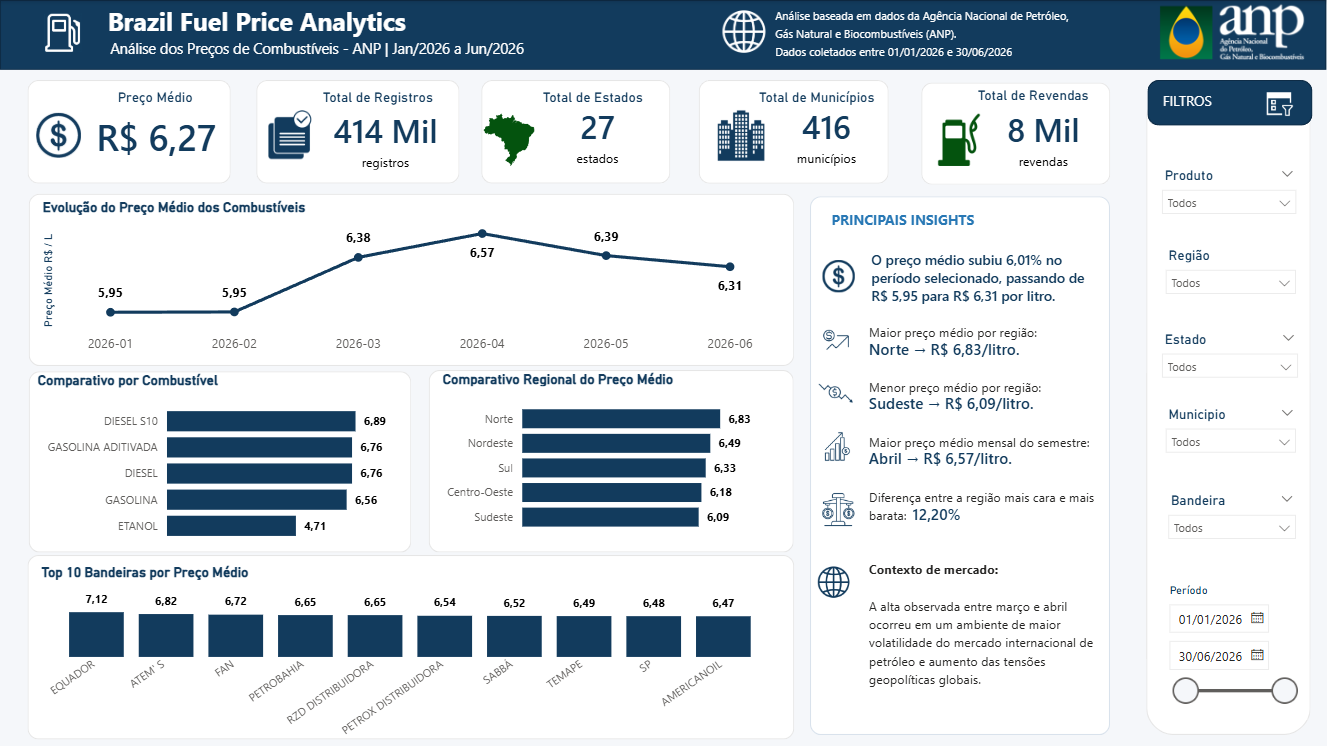

The dashboard page shown, as its layout file describes it:
{"tool":"powerbi","page":{"name":"Visão Executiva","canvas":[1280,720],"ordinal":0},"visuals":[{"type":"shape","box":[0,0,1280,67.5],"z":0},{"type":"image","box":[12.2,13.5,96.6,36.7],"z":1000},{"type":"textbox","box":[98.8,0,413.8,61.2],"z":2000},{"type":"textbox","box":[101.2,32.5,455,35],"z":3000},{"type":"textbox","box":[743.8,0,310,70],"z":4000},{"type":"image","box":[1096.2,0,183.8,61.2],"z":5000},{"type":"image","box":[693.8,5,55,52.5],"z":6000},{"type":"shape","box":[1106.2,87.5,158.8,621.2],"z":7000},{"type":"shape","box":[1107.4,76.8,159.2,43.9],"z":8000},{"type":"textbox","box":[1117,83.7,120.8,31.6],"z":9000},{"type":"image","box":[1191.1,83.7,89.2,34.3],"z":10000},{"type":"shape","title":"Total de Revendas","box":[888.8,80,182.5,98.8],"z":11000},{"type":"slicer","fields":{"Values":["Fato Preços ANP.produto"]},"box":[1111.2,156.2,150,82.5],"z":12000},{"type":"slicer","fields":{"Values":["Fato Preços ANP.Região Nome"]},"box":[1115,233.8,146.2,78.8],"z":13000},{"type":"slicer","fields":{"Values":["Fato Preços ANP.estado__sigla"]},"box":[1111.2,315,151.2,88.8],"z":14000},{"type":"slicer","fields":{"Values":["Fato Preços ANP.municipio"]},"box":[1115,387.5,146.2,88.8],"z":15000},{"type":"slicer","fields":{"Values":["Fato Preços ANP.bandeira"]},"box":[1117.5,470,143.8,88.8],"z":16000},{"type":"slicer","fields":{"Values":["Calendario.Date"]},"box":[1116.2,558.8,145,136.2],"z":17000},{"type":"shape","title":"Total de Revendas","box":[674.4,77.2,183.4,100.1],"z":18000},{"type":"shape","title":"Total de Revendas","box":[465,77.5,182.5,100],"z":19000},{"type":"shape","title":"Total de Revendas","box":[247.5,77.5,196.2,100],"z":20000},{"type":"shape","title":"Total de Revendas","box":[26.2,77.5,196.2,100],"z":21000},{"type":"shape","title":"Total de Revendas","box":[27.5,187.5,738.8,166.2],"z":22000},{"type":"lineChart","title":"Evolução do Preço Médio dos Combustíveis","fields":{"Category":["Calendario.AnoMes"],"Y":["Fato Preços ANP.Preço Médio Líquidos"]},"box":[36.2,193,721.5,156.8],"z":23000},{"type":"shape","title":"Total de Revendas","box":[27.7,358.3,369.2,174.9],"z":24000},{"type":"barChart","title":"Comparativo por Combustível","fields":{"Category":["Fato Preços ANP.produto"],"Y":["Fato Preços ANP.Preço Médio Líquidos"]},"box":[31.4,359.5,406.6,173.7],"z":25000},{"type":"shape","title":"Total de Revendas","box":[413.8,357.1,352.3,176.1],"z":26000},{"type":"shape","title":"Total de Revendas","box":[781.8,189.4,289.5,520],"z":27000},{"type":"textbox","box":[833.7,306.4,242.5,382.4],"z":28000},{"type":"textbox","box":[797.5,197.9,238.9,37.4],"z":29000},{"type":"cardVisual","title":"Total de Munícipios","fields":{"Data":["Fato Preços ANP.Total Municípios"]},"box":[722.5,75,148.8,110],"z":30000},{"type":"image","box":[688.8,93.8,52.5,73.8],"z":31000},{"type":"cardVisual","title":"Total de Estados","fields":{"Data":["Fato Preços ANP.Total Estados"]},"box":[492.5,83.8,167.5,93.8],"z":32000},{"type":"image","box":[465,110,53.8,50],"z":33000},{"type":"cardVisual","title":"Total de Revendas","fields":{"Data":["Fato Preços ANP.Total Revendas"]},"box":[941.2,80,130,107.5],"z":34000},{"type":"cardVisual","title":"Total de Registros","fields":{"Data":["Fato Preços ANP.Total Registros"]},"box":[290,86.2,163.8,96.2],"z":35000},{"type":"image","box":[247.5,72.5,65,115],"z":36000},{"type":"image","box":[898.8,110,53.8,50],"z":37000},{"type":"cardVisual","title":"Preço Médio (Líquidos)","fields":{"Data":["Fato Preços ANP.Preço Médio Líquidos"]},"box":[66.2,77.5,167.5,105],"z":38000},{"type":"image","box":[35,105,43.4,50.7],"z":39000},{"type":"barChart","title":"Comparativo Regional do Preço Médio","fields":{"Category":["Fato Preços ANP.Região Nome"],"Y":["Fato Preços ANP.Preço Médio Líquidos"]},"box":[422.3,358.3,365.6,165.3],"z":40000},{"type":"image","box":[793.8,250.9,31.4,31.4],"z":41000},{"type":"image","box":[787.8,306.4,38.6,43.4],"z":42000},{"type":"image","box":[786.6,349.9,39.8,59.1],"z":43000},{"type":"image","box":[783,401.7,50.7,57.9],"z":44000},{"type":"image","box":[791.4,469.3,35,44.6],"z":45000},{"type":"image","box":[784.2,545.3,45.8,33.8],"z":46000},{"type":"shape","title":"Total de Revendas","box":[26,536,740,178],"z":47000},{"type":"columnChart","title":"Top 10 Bandeiras por Preço Médio","fields":{"Category":["Fato Preços ANP.bandeira"],"Y":["Fato Preços ANP.Preço Médio Líquidos"]},"box":[35,545.3,722.7,174.9],"z":48000},{"type":"textbox","box":[108.6,79.6,92.9,37.4],"z":49000},{"type":"textbox","box":[518.8,80,115,37.5],"z":50000},{"type":"textbox","box":[306.2,80,131.2,37.5],"z":51000},{"type":"textbox","box":[727.5,80,130,37.5],"z":52000},{"type":"textbox","box":[938.8,77.5,132.5,37.5],"z":53000},{"type":"cardVisual","fields":{"Data":["Fato Preços ANP.Insight Região Maior Preço"]},"box":[821.6,313.7,207.5,44.6],"z":54000},{"type":"cardVisual","fields":{"Data":["Fato Preços ANP.Insight Região Menor Preço"]},"box":[821.6,365.6,207.5,44.6],"z":55000},{"type":"cardVisual","fields":{"Data":["Fato Preços ANP.Insight Maior Preço Mensal"]},"box":[821.6,423.5,207.5,36.2],"z":56000},{"type":"cardVisual","fields":{"Data":["Fato Preços ANP.Insight Diferença Regional"]},"box":[863.8,472.9,207.5,44.6],"z":57000},{"type":"cardVisual","fields":{"Data":["Fato Preços ANP.Insight Evolução do Período"]},"box":[824,205.1,249.7,123.1],"z":58000}]}

Visuals, with their boxes in screenshot pixels (x1, y1, x2, y2), scaled from the page's 1280x720 canvas onto the 1327x746 screenshot:
shape: {"x1": 0, "y1": 0, "x2": 1326, "y2": 70}
image: {"x1": 13, "y1": 14, "x2": 113, "y2": 52}
textbox: {"x1": 102, "y1": 0, "x2": 531, "y2": 63}
textbox: {"x1": 105, "y1": 34, "x2": 577, "y2": 70}
textbox: {"x1": 771, "y1": 0, "x2": 1092, "y2": 73}
image: {"x1": 1136, "y1": 0, "x2": 1326, "y2": 63}
image: {"x1": 719, "y1": 5, "x2": 776, "y2": 60}
shape: {"x1": 1147, "y1": 91, "x2": 1311, "y2": 734}
shape: {"x1": 1148, "y1": 80, "x2": 1313, "y2": 125}
textbox: {"x1": 1158, "y1": 87, "x2": 1283, "y2": 119}
image: {"x1": 1235, "y1": 87, "x2": 1326, "y2": 122}
"Total de Revendas" shape: {"x1": 921, "y1": 83, "x2": 1111, "y2": 185}
slicer - Fato Preços ANP.produto: {"x1": 1152, "y1": 162, "x2": 1308, "y2": 247}
slicer - Fato Preços ANP.Região Nome: {"x1": 1156, "y1": 242, "x2": 1308, "y2": 324}
slicer - Fato Preços ANP.estado__sigla: {"x1": 1152, "y1": 326, "x2": 1309, "y2": 418}
slicer - Fato Preços ANP.municipio: {"x1": 1156, "y1": 401, "x2": 1308, "y2": 493}
slicer - Fato Preços ANP.bandeira: {"x1": 1159, "y1": 487, "x2": 1308, "y2": 579}
slicer - Calendario.Date: {"x1": 1157, "y1": 579, "x2": 1308, "y2": 720}
"Total de Revendas" shape: {"x1": 699, "y1": 80, "x2": 889, "y2": 184}
"Total de Revendas" shape: {"x1": 482, "y1": 80, "x2": 671, "y2": 184}
"Total de Revendas" shape: {"x1": 257, "y1": 80, "x2": 460, "y2": 184}
"Total de Revendas" shape: {"x1": 27, "y1": 80, "x2": 231, "y2": 184}
"Total de Revendas" shape: {"x1": 29, "y1": 194, "x2": 794, "y2": 366}
"Evolução do Preço Médio dos Combustíveis" lineChart: {"x1": 38, "y1": 200, "x2": 786, "y2": 362}
"Total de Revendas" shape: {"x1": 29, "y1": 371, "x2": 411, "y2": 552}
"Comparativo por Combustível" barChart: {"x1": 33, "y1": 372, "x2": 454, "y2": 552}
"Total de Revendas" shape: {"x1": 429, "y1": 370, "x2": 794, "y2": 552}
"Total de Revendas" shape: {"x1": 811, "y1": 196, "x2": 1111, "y2": 735}
textbox: {"x1": 864, "y1": 317, "x2": 1116, "y2": 714}
textbox: {"x1": 827, "y1": 205, "x2": 1074, "y2": 244}
"Total de Munícipios" cardVisual: {"x1": 749, "y1": 78, "x2": 903, "y2": 192}
image: {"x1": 714, "y1": 97, "x2": 769, "y2": 174}
"Total de Estados" cardVisual: {"x1": 511, "y1": 87, "x2": 684, "y2": 184}
image: {"x1": 482, "y1": 114, "x2": 538, "y2": 166}
"Total de Revendas" cardVisual: {"x1": 976, "y1": 83, "x2": 1111, "y2": 194}
"Total de Registros" cardVisual: {"x1": 301, "y1": 89, "x2": 470, "y2": 189}
image: {"x1": 257, "y1": 75, "x2": 324, "y2": 194}
image: {"x1": 932, "y1": 114, "x2": 988, "y2": 166}
"Preço Médio (Líquidos)" cardVisual: {"x1": 69, "y1": 80, "x2": 242, "y2": 189}
image: {"x1": 36, "y1": 109, "x2": 81, "y2": 161}
"Comparativo Regional do Preço Médio" barChart: {"x1": 438, "y1": 371, "x2": 817, "y2": 543}
image: {"x1": 823, "y1": 260, "x2": 856, "y2": 292}
image: {"x1": 817, "y1": 317, "x2": 857, "y2": 362}
image: {"x1": 815, "y1": 363, "x2": 857, "y2": 424}
image: {"x1": 812, "y1": 416, "x2": 864, "y2": 476}
image: {"x1": 820, "y1": 486, "x2": 857, "y2": 532}
image: {"x1": 813, "y1": 565, "x2": 860, "y2": 600}
"Total de Revendas" shape: {"x1": 27, "y1": 555, "x2": 794, "y2": 740}
"Top 10 Bandeiras por Preço Médio" columnChart: {"x1": 36, "y1": 565, "x2": 786, "y2": 745}
textbox: {"x1": 113, "y1": 82, "x2": 209, "y2": 121}
textbox: {"x1": 538, "y1": 83, "x2": 657, "y2": 122}
textbox: {"x1": 317, "y1": 83, "x2": 453, "y2": 122}
textbox: {"x1": 754, "y1": 83, "x2": 889, "y2": 122}
textbox: {"x1": 973, "y1": 80, "x2": 1111, "y2": 119}
cardVisual - Fato Preços ANP.Insight Região Maior Preço: {"x1": 852, "y1": 325, "x2": 1067, "y2": 371}
cardVisual - Fato Preços ANP.Insight Região Menor Preço: {"x1": 852, "y1": 379, "x2": 1067, "y2": 425}
cardVisual - Fato Preços ANP.Insight Maior Preço Mensal: {"x1": 852, "y1": 439, "x2": 1067, "y2": 476}
cardVisual - Fato Preços ANP.Insight Diferença Regional: {"x1": 896, "y1": 490, "x2": 1111, "y2": 536}
cardVisual - Fato Preços ANP.Insight Evolução do Período: {"x1": 854, "y1": 213, "x2": 1113, "y2": 340}
